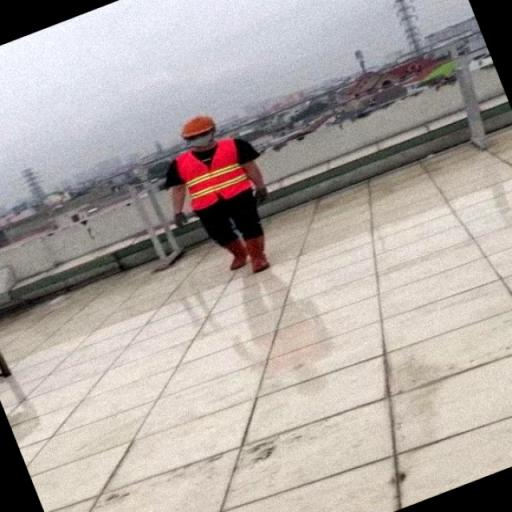Person: (152, 106, 295, 280)
boots: (237, 227, 295, 288), (204, 231, 246, 272)
gloves: (246, 183, 284, 221), (161, 203, 196, 234)
goggles: (167, 125, 225, 142)
helmet: (157, 116, 221, 138)
vest: (170, 145, 257, 219)
